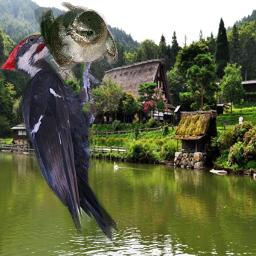Swallow: (29, 2, 118, 82)
Woodpecker: (0, 15, 118, 242)
